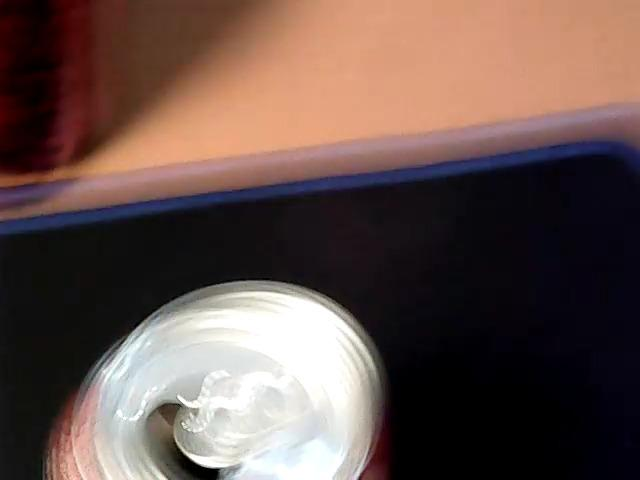coke: (35, 273, 390, 474), (0, 0, 101, 175)
